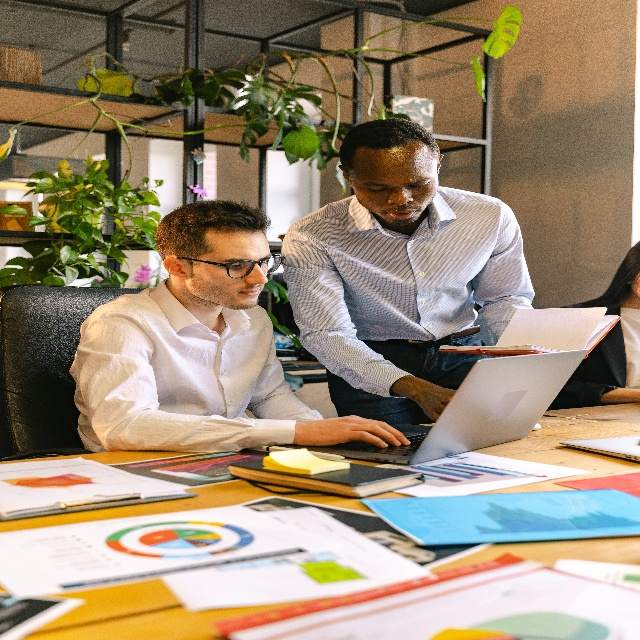Gafas: (224, 252, 286, 284)
Sin_guantes: (297, 415, 409, 455), (406, 377, 460, 421)
